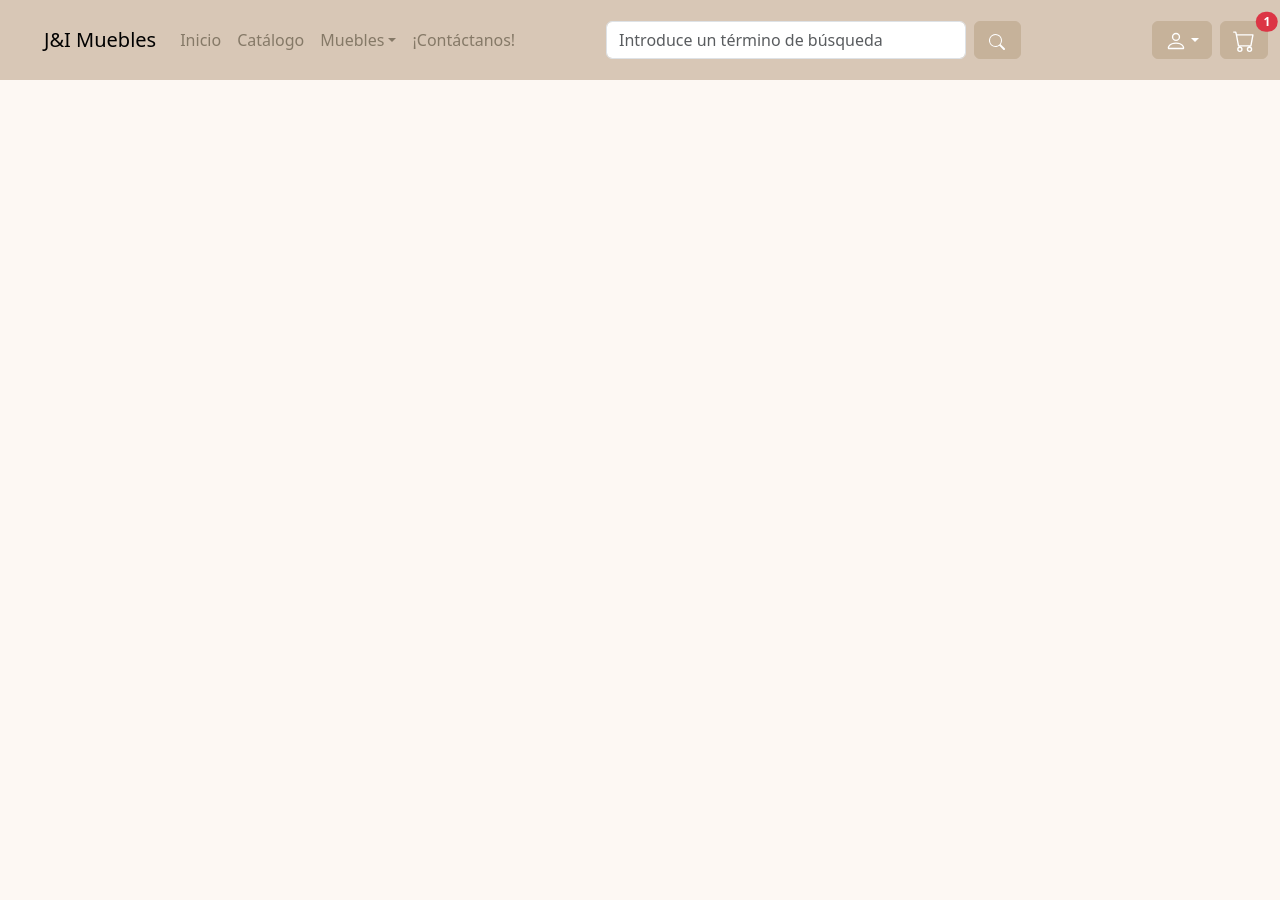
Test case: Navbar › muestra el conteo del carrito y abre el modal de login
Expected: the text "1" is shown, [1256, 12, 1278, 32]
# Abrir modal de contacto haciendo click en el enlace
Click the link "¡Contáctanos!" at point(464, 40), box [412, 29, 515, 51]
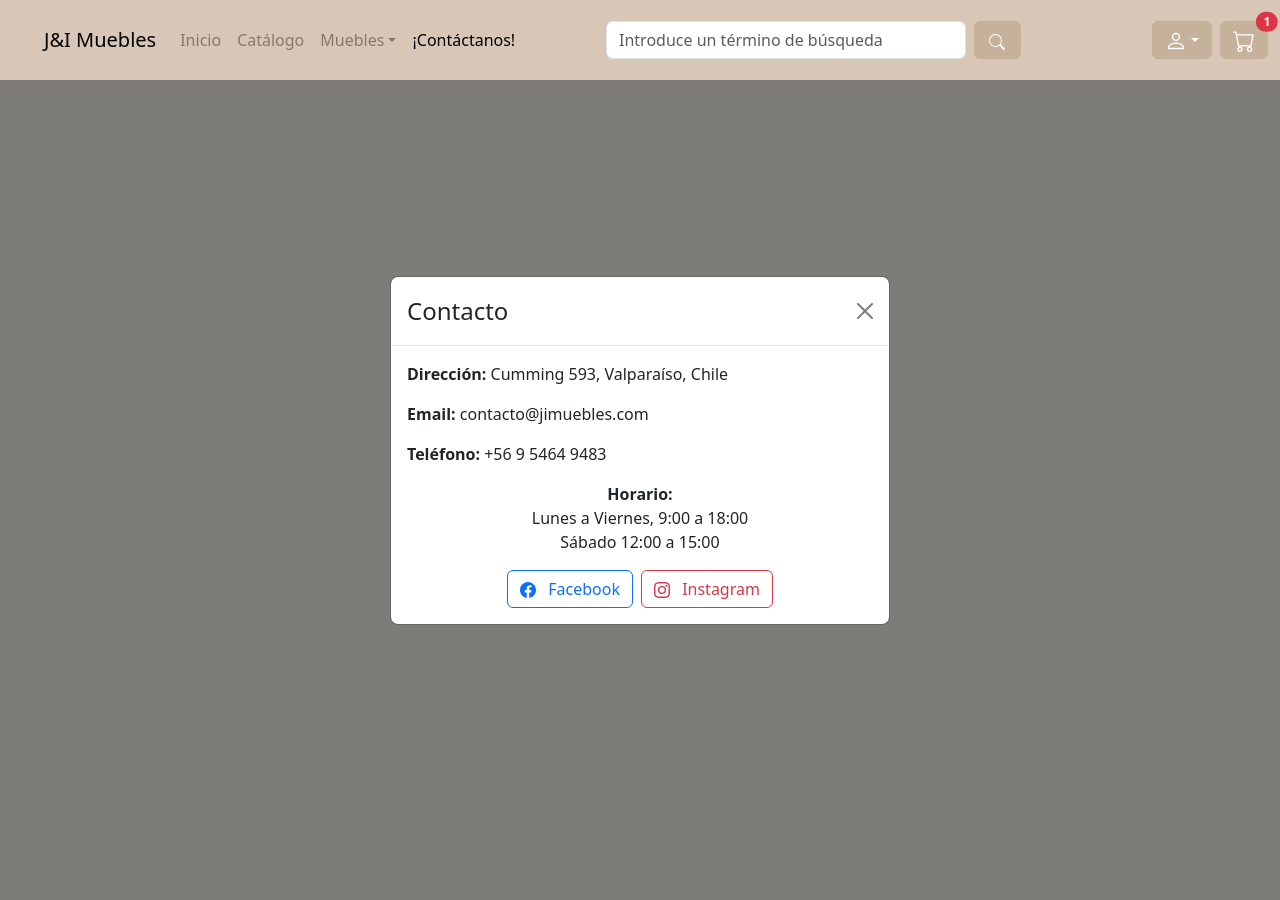
Now the text "Dirección:" is shown, box [407, 362, 486, 384]
Now the text "Email: contacto@jimuebles.com" is shown, box [407, 402, 649, 424]
